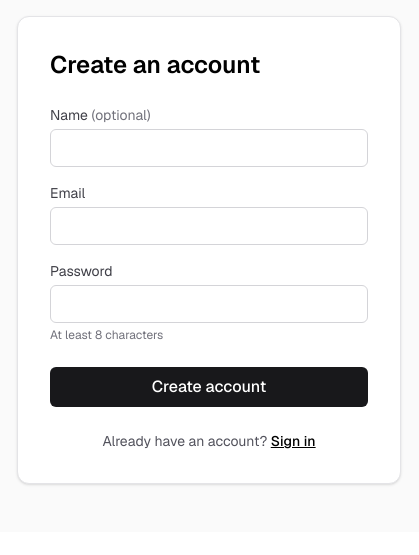
AuthForm in register mode › should show the error when the email is already in use
Type "john@gmail.com" into the field labelled "Email" at (209,226), box [50,207,368,245]
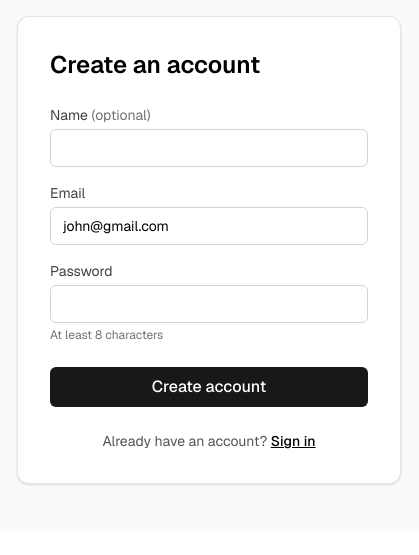
Type "supersecret123" into the password field labelled "Password At least 8 characters" at (209,304), box [50,285,368,323]
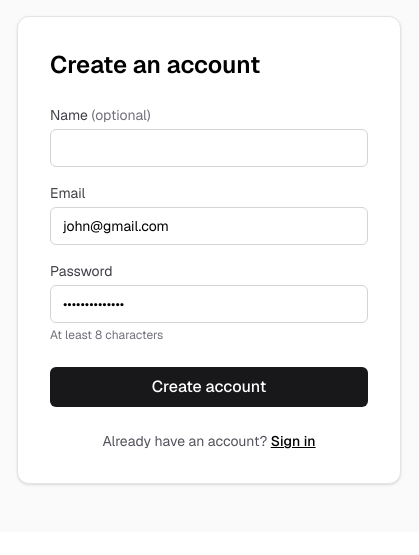
Click the button "Create account" at (209,387), box [50,367,368,407]
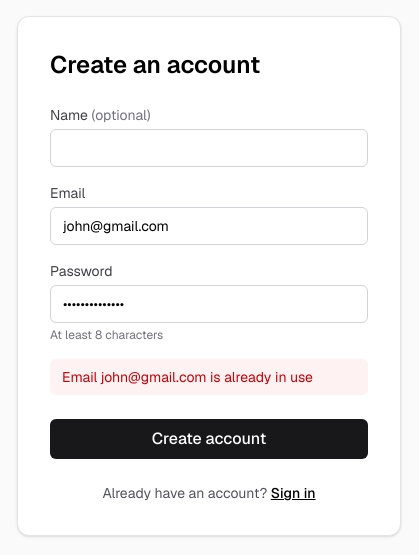
Result: the message reads "Email john@gmail.com is already in use" at [62,368,313,386]
